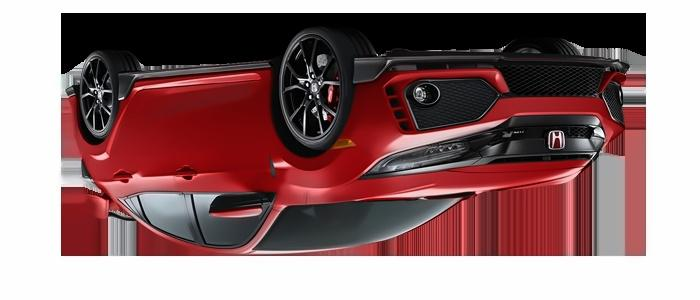Car hood: (306, 157, 594, 203)
Fender - -F-L-: (264, 59, 368, 214)
Fender - -R-L-: (84, 77, 122, 175)
Front bumper: (344, 52, 630, 148)
Headlight - -L-: (354, 133, 485, 180)
Headlight - -R-: (586, 131, 610, 159)
Passenger-s door - -F-L-: (181, 69, 264, 253)
Passenger-s door - -R-L-: (107, 72, 182, 241)
Rear bumper: (62, 84, 93, 146)
Rear light - -L-: (78, 155, 94, 185)
Side bumper - -L-: (112, 58, 276, 103)
Side mirror - -L-: (206, 188, 268, 220)
